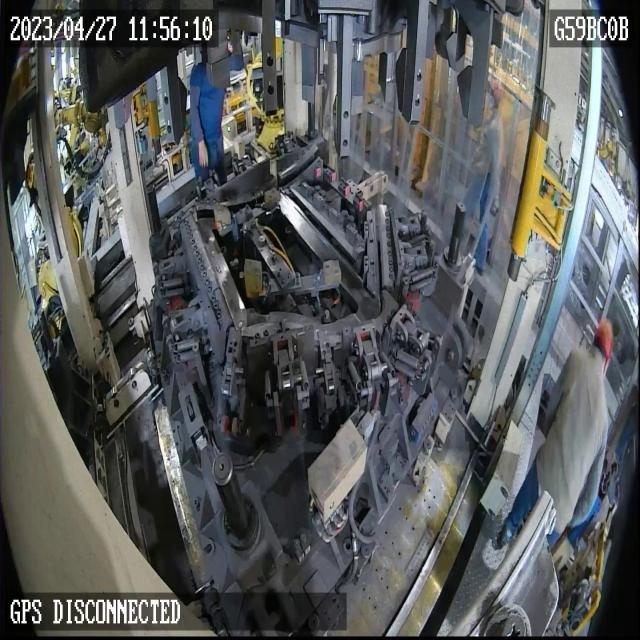Person: (492, 317, 614, 554), (461, 75, 506, 276), (189, 59, 227, 188)
